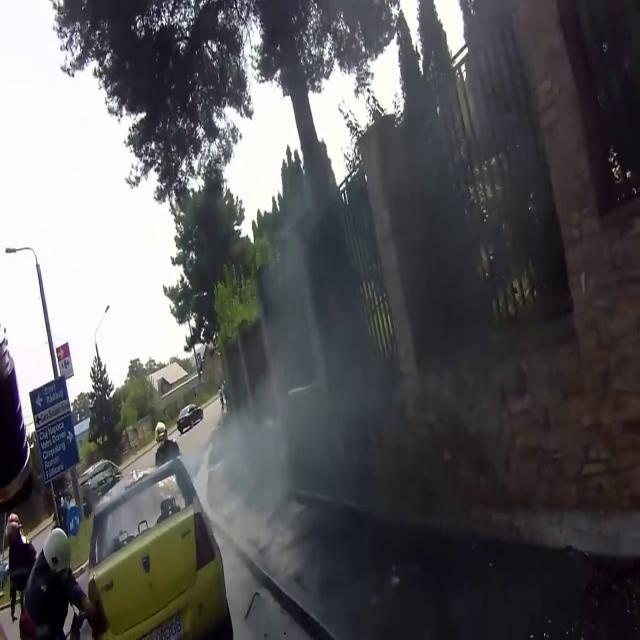Smoke: (188, 178, 454, 566)
